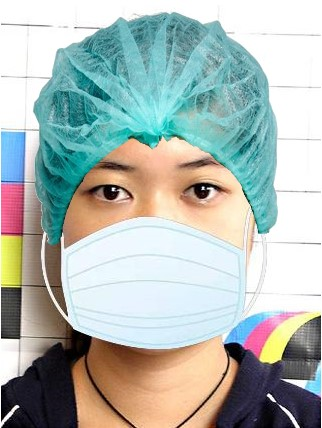with_mask_and_cap: (38, 14, 268, 355)
